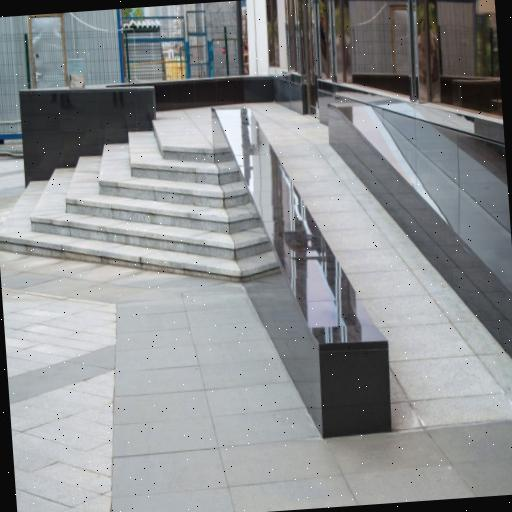ramp: (248, 92, 512, 440)
stairs: (0, 118, 281, 297)
